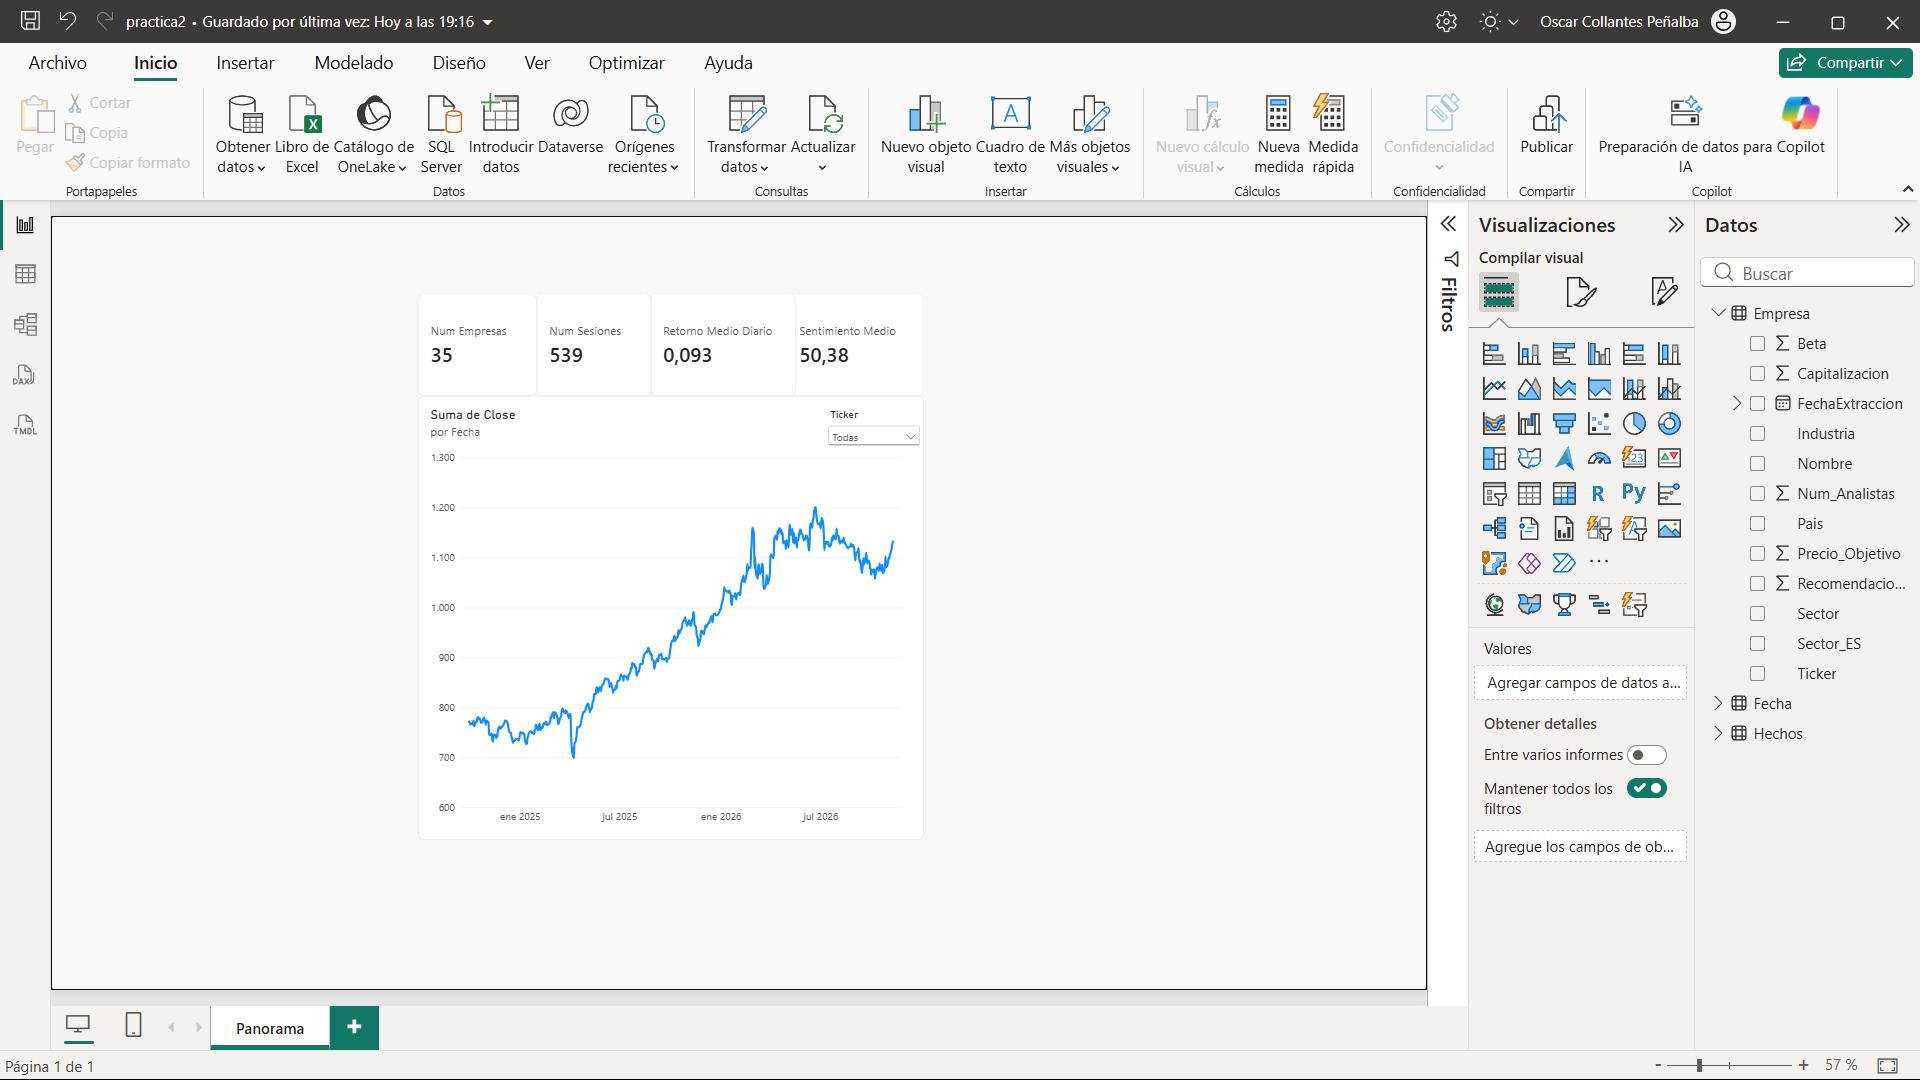

Layout of this report page (visuals, bound fields, positions):
{"tool":"powerbi","page":{"name":"Panorama","canvas":[1920,1080],"ordinal":0},"visuals":[{"type":"cardVisual","fields":{"Data":["Hechos.Num Empresas"]},"box":[-0.7,-0.7,165.7,143],"z":0},{"type":"cardVisual","fields":{"Data":["Hechos.Sentimiento Medio"]},"box":[513.8,-0.7,190.1,143],"z":1000},{"type":"cardVisual","fields":{"Data":["Hechos.Retorno Medio Diario"]},"box":[323.7,-0.7,202.3,143],"z":2000},{"type":"cardVisual","fields":{"Data":["Hechos.Num Sesiones"]},"box":[165,-0.7,158.7,143],"z":3000},{"type":"lineChart","fields":{"Category":["Fecha.Fecha"],"Y":["Avg(Hechos.Close)"]},"box":[-0.7,142.3,704.7,619.2],"z":4000},{"type":"slicer","fields":{"Values":["Empresa.Ticker"]},"box":[566.2,159.8,137.8,59.3],"z":5000}]}

Visuals, with their boxes on the page's 1920x1080 design canvas (x1, y1, x2, y2). These are canvas units, not pixel positions in the 1920x1080 screenshot, which may show the page scaled, cropped or inside an application window:
cardVisual - Hechos.Num Empresas: x1=-1 y1=-1 x2=165 y2=142
cardVisual - Hechos.Sentimiento Medio: x1=514 y1=-1 x2=704 y2=142
cardVisual - Hechos.Retorno Medio Diario: x1=324 y1=-1 x2=526 y2=142
cardVisual - Hechos.Num Sesiones: x1=165 y1=-1 x2=324 y2=142
lineChart - Fecha.Fecha x Avg(Hechos.Close): x1=-1 y1=142 x2=704 y2=762
slicer - Empresa.Ticker: x1=566 y1=160 x2=704 y2=219
